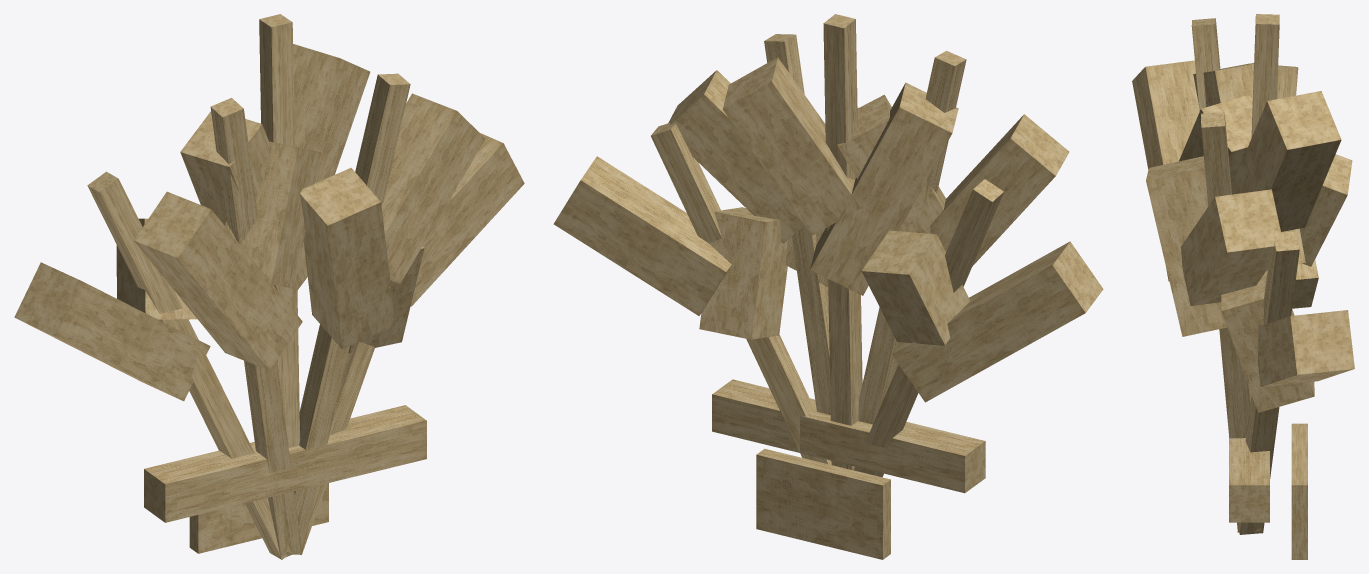
The model's file is ITM_HERB_BUNDLE_001.obj.
The picture shows the model from 3 angles, left to right: view 1: azimuth 30°, elevation 25°; view 2: azimuth 150°, elevation 25°; view 3: azimuth 270°, elevation 25°; orthographic projection. The views are drawn at different scales.
Parts seen in each view (by area): view 1: BroadLeafA_2, ReadableBundleTie, BroadLeafA_4, BroadLeafA_1, BroadLeafB_4, HerbStem_2, HerbStem_4, HerbStem_1, BroadLeafB_2, BroadLeafB_3, BroadLeafB_5, HerbStem_3 (+5 smaller); view 2: BroadLeafA_1, BroadLeafB_5, ReadableBundleTie, BroadLeafA_3, BroadLeafB_3, SimpleLabel, HerbStem_3, BroadLeafA_5, BroadLeafB_1, BroadLeafB_4, BroadLeafA_2, HerbStem_5 (+4 smaller); view 3: BroadLeafB_3, BroadLeafB_4, BroadLeafA_4, BroadLeafB_5, BroadLeafA_2, HerbStem_4, BroadLeafA_5, HerbStem_5, ReadableBundleTie, BroadLeafB_1, BroadLeafB_2, HerbStem_3 (+5 smaller).
Boxes of the visible parts, x1,y1,x2,y2 form: BroadLeafA_2: [134, 191, 302, 370]; ReadableBundleTie: [144, 405, 426, 522]; BroadLeafA_4: [300, 168, 395, 349]; BroadLeafA_1: [14, 262, 210, 401]; BroadLeafB_4: [381, 93, 485, 283]; HerbStem_2: [210, 98, 301, 558]; HerbStem_4: [293, 73, 410, 554]; HerbStem_1: [87, 171, 288, 559]; BroadLeafB_2: [225, 141, 320, 288]; BroadLeafB_3: [293, 44, 370, 183]; BroadLeafB_5: [410, 133, 524, 306]; HerbStem_3: [259, 14, 300, 447]; BroadLeafA_1: [892, 241, 1103, 402]; BroadLeafB_5: [553, 156, 731, 315]; ReadableBundleTie: [712, 379, 985, 493]; BroadLeafA_3: [810, 82, 958, 295]; BroadLeafB_3: [722, 57, 860, 235]; SimpleLabel: [756, 448, 890, 559]; HerbStem_3: [823, 14, 862, 470]; BroadLeafA_5: [699, 207, 787, 339]; BroadLeafB_1: [861, 230, 970, 345]; BroadLeafB_4: [668, 70, 803, 243]; BroadLeafA_2: [930, 114, 1069, 266]; HerbStem_5: [651, 122, 831, 464]; BroadLeafB_3: [1234, 91, 1341, 231]; BroadLeafB_4: [1181, 189, 1282, 305]; BroadLeafA_4: [1146, 156, 1226, 336]; BroadLeafB_5: [1258, 310, 1354, 386]; BroadLeafA_2: [1132, 60, 1199, 281]; HerbStem_4: [1201, 112, 1261, 532]; BroadLeafA_5: [1221, 271, 1314, 412]; HerbStem_5: [1239, 231, 1299, 534]; ReadableBundleTie: [1229, 437, 1269, 522]; BroadLeafB_1: [1299, 154, 1352, 266]; BroadLeafB_2: [1179, 95, 1252, 188]; HerbStem_3: [1249, 14, 1279, 399].
Size of the model in its own units: 0.6385 by 0.6167 by 0.2437.
Materials: 3 (3 with a texture image).
